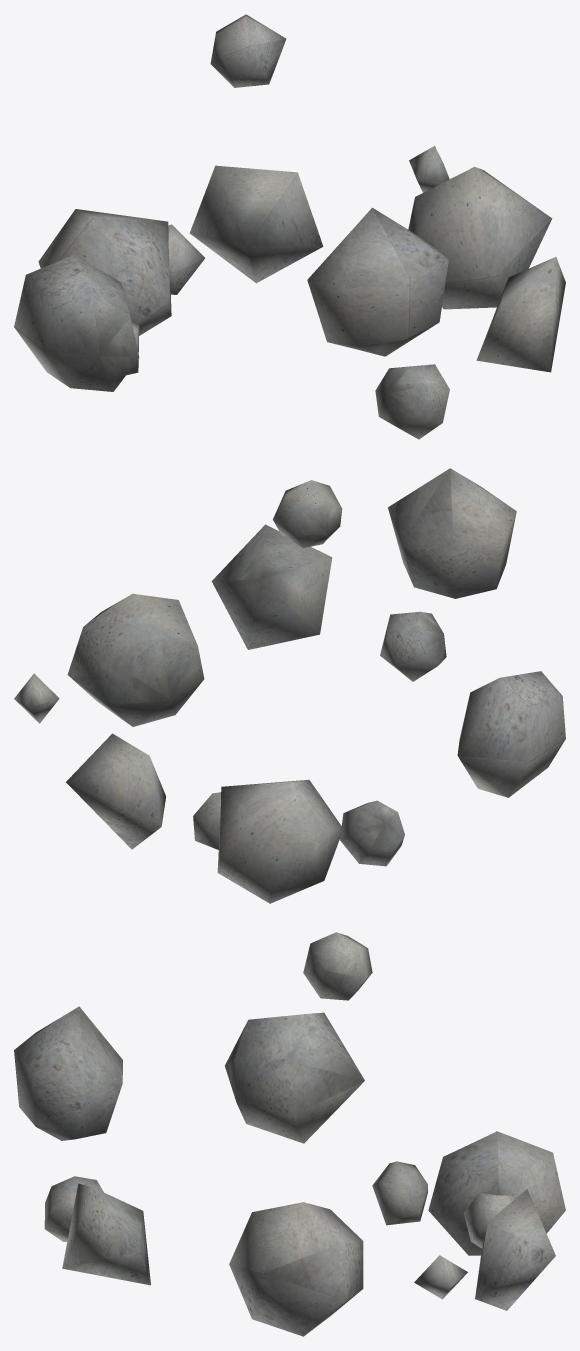
Rendered from stone_effect10.obj.
3 views of the same model, one above another, from view 1: azimuth 30°, elevation 25°; view 2: azimuth 150°, elevation 25°; view 3: azimuth 270°, elevation 25° (orthographic). The views are drawn at different scales.
Visible parts, largest first — view 1: Sphere011; view 2: Sphere011; view 3: Sphere011.
Part boxes in pixels (x1,y1,x2,y2): Sphere011: (14, 14, 565, 439); Sphere011: (14, 468, 565, 903); Sphere011: (14, 932, 565, 1336).
Bounding box in the file's own units: 193 × 136 × 197.
Materials: 1 (1 with a texture image).
